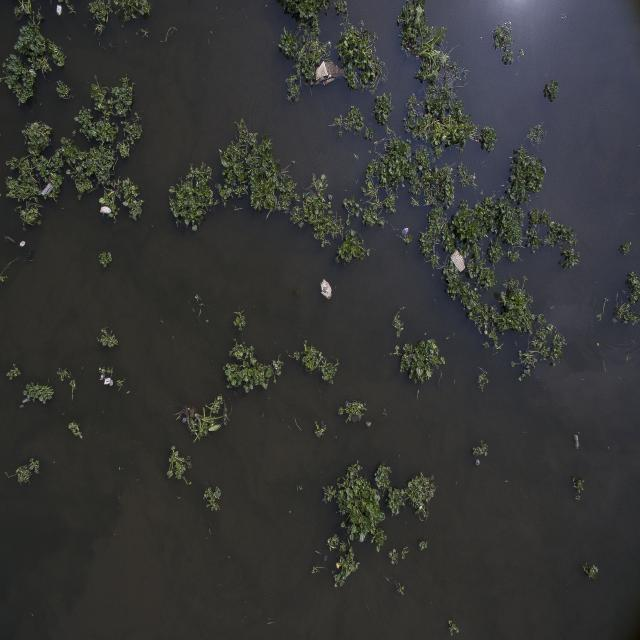debris: (315, 57, 344, 87), (319, 275, 334, 303), (450, 248, 466, 270), (100, 371, 117, 391), (40, 182, 56, 202), (99, 202, 113, 218), (55, 3, 65, 20), (179, 415, 191, 427), (29, 64, 37, 80), (17, 239, 27, 250)
plastic: (399, 224, 412, 242), (574, 430, 581, 458)
